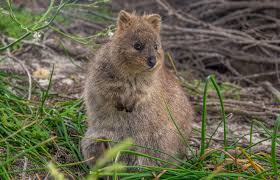quokka: (62, 7, 205, 179)
